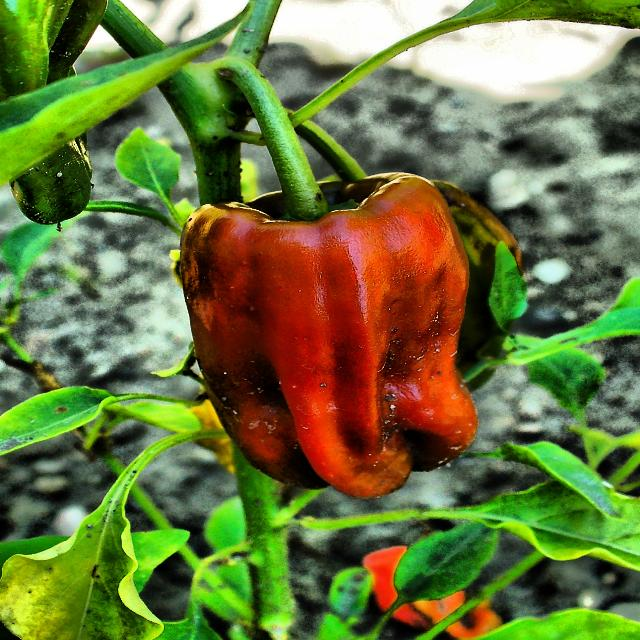red capsicum: (58, 15, 535, 527)
